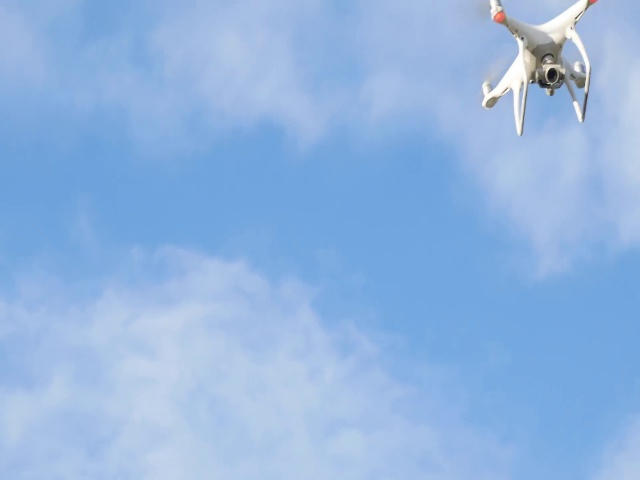drone: (475, 1, 614, 139)
